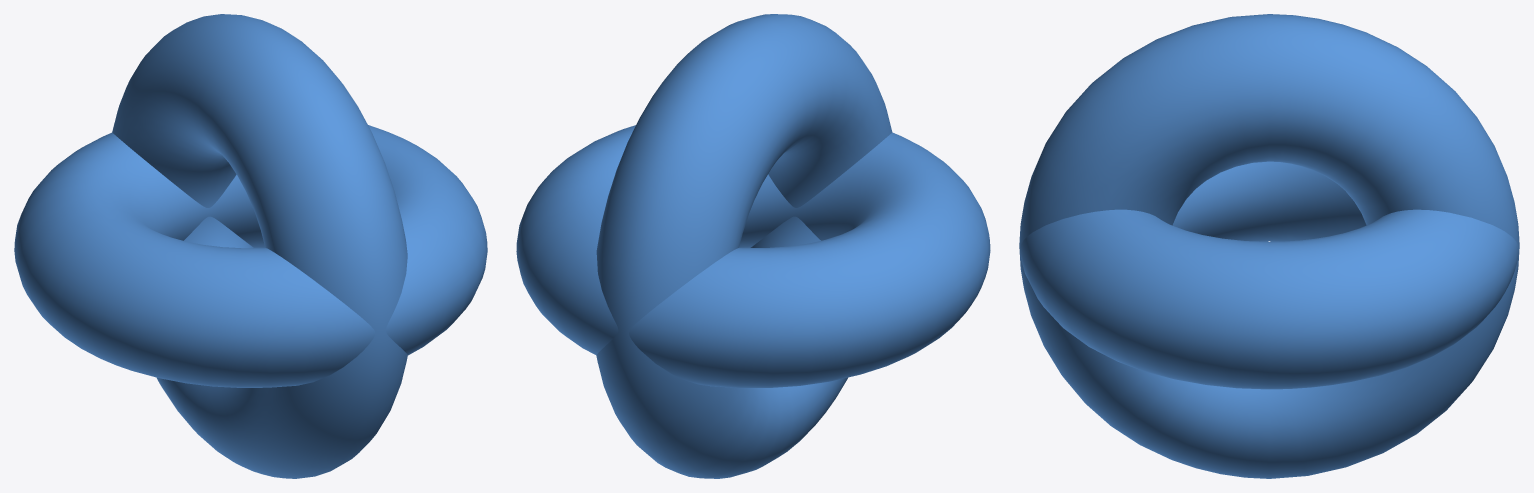
The model's file is balls_Component2 v2.fbx.
3 renders of one model, left to right at view 1: azimuth 30°, elevation 25°; view 2: azimuth 150°, elevation 25°; view 3: azimuth 270°, elevation 25°, orthographic. The views are drawn at different scales.
Visible parts, largest first — view 1: Body1; view 2: Body1; view 3: Body1.
Boxes of the visible parts, box(x1,y1,x2,y2) form: Body1: box(14, 14, 487, 478); Body1: box(516, 14, 990, 478); Body1: box(1019, 14, 1519, 478).
Size of the model in its own units: 100 by 100 by 100.
